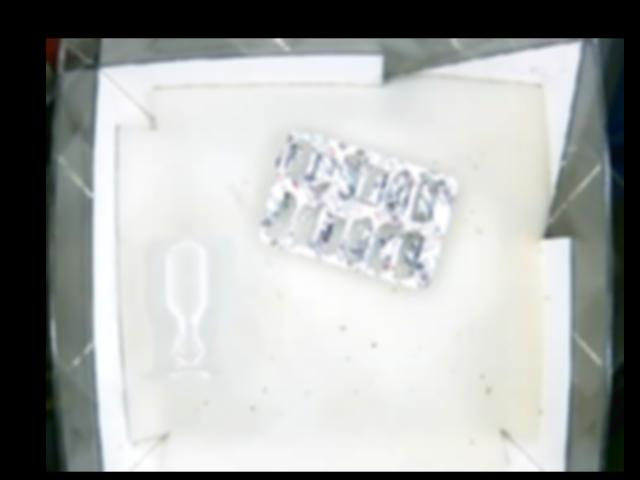Bottle: (153, 238, 221, 383)
Medicine: (258, 129, 460, 288)
